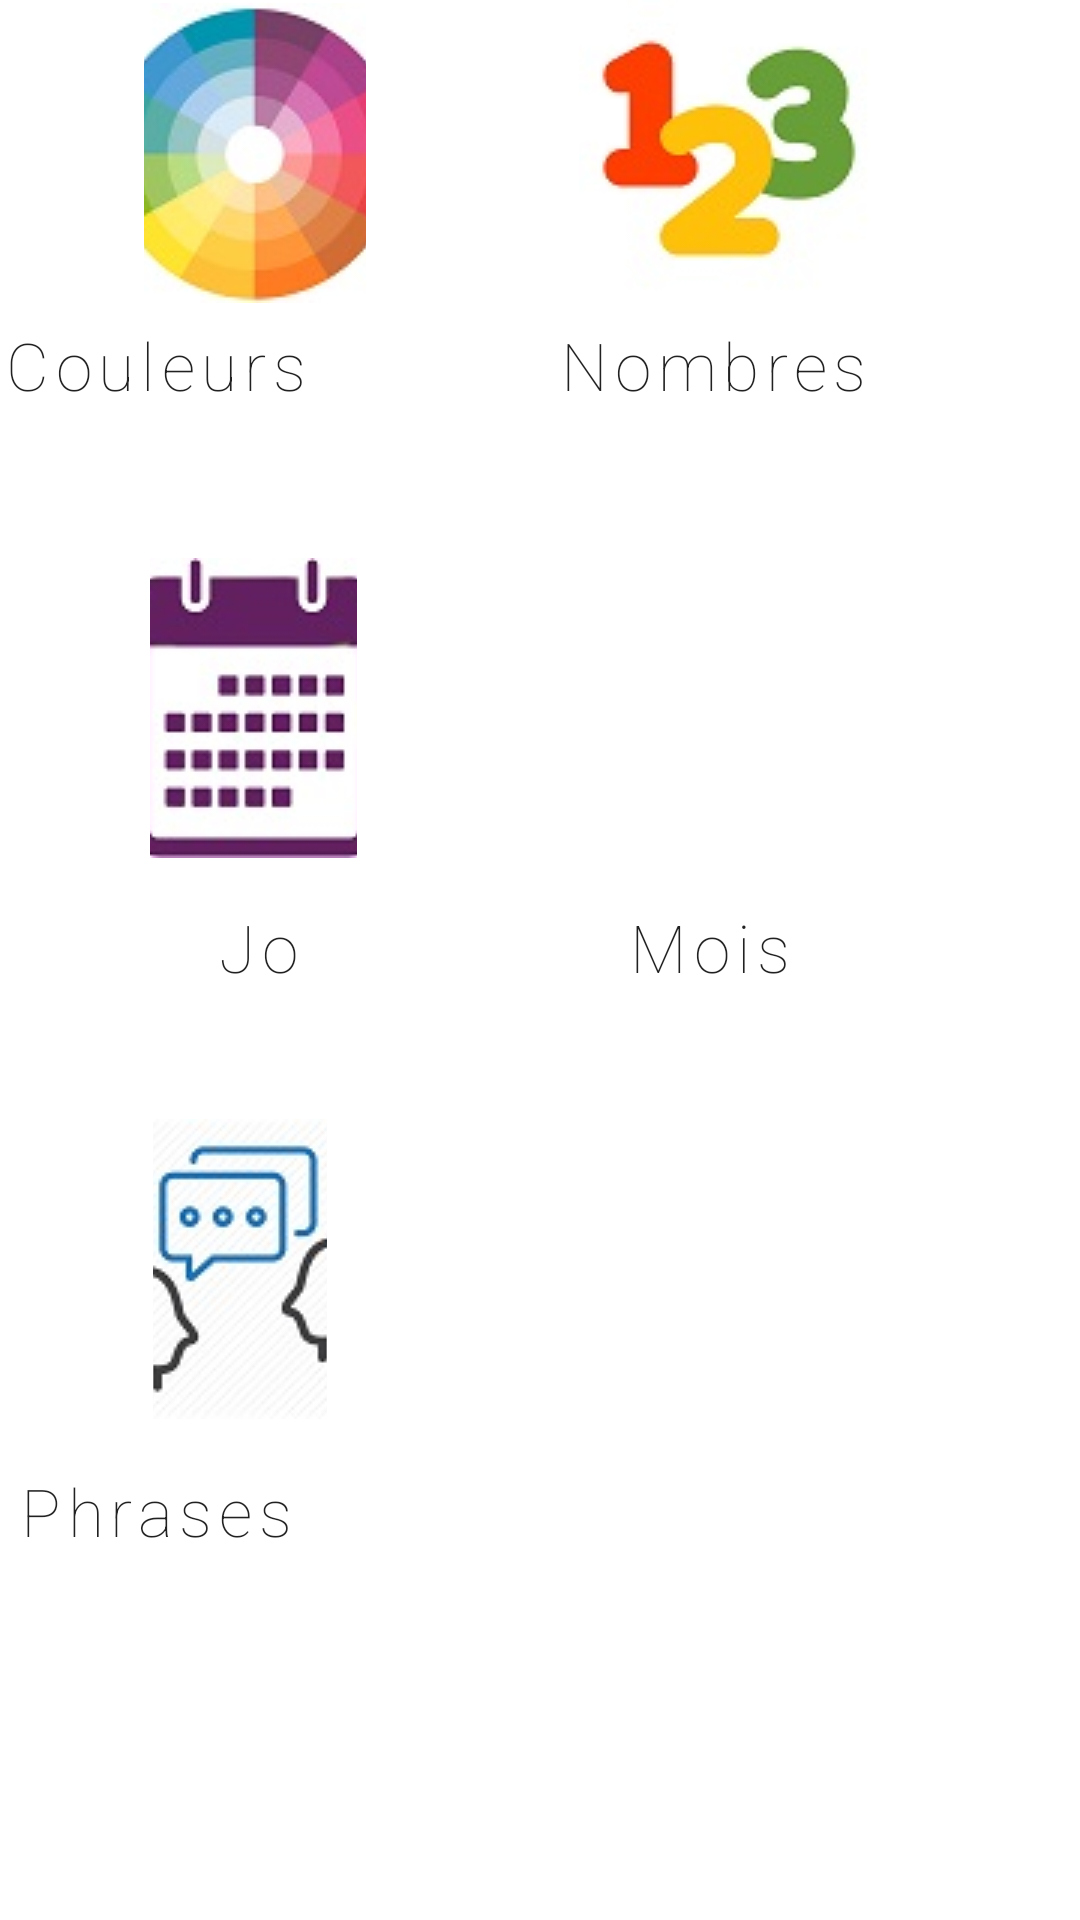

Named icons in this screenshot (1080 x 1920) and their centers, (x,y):
calendar: (253,708)
